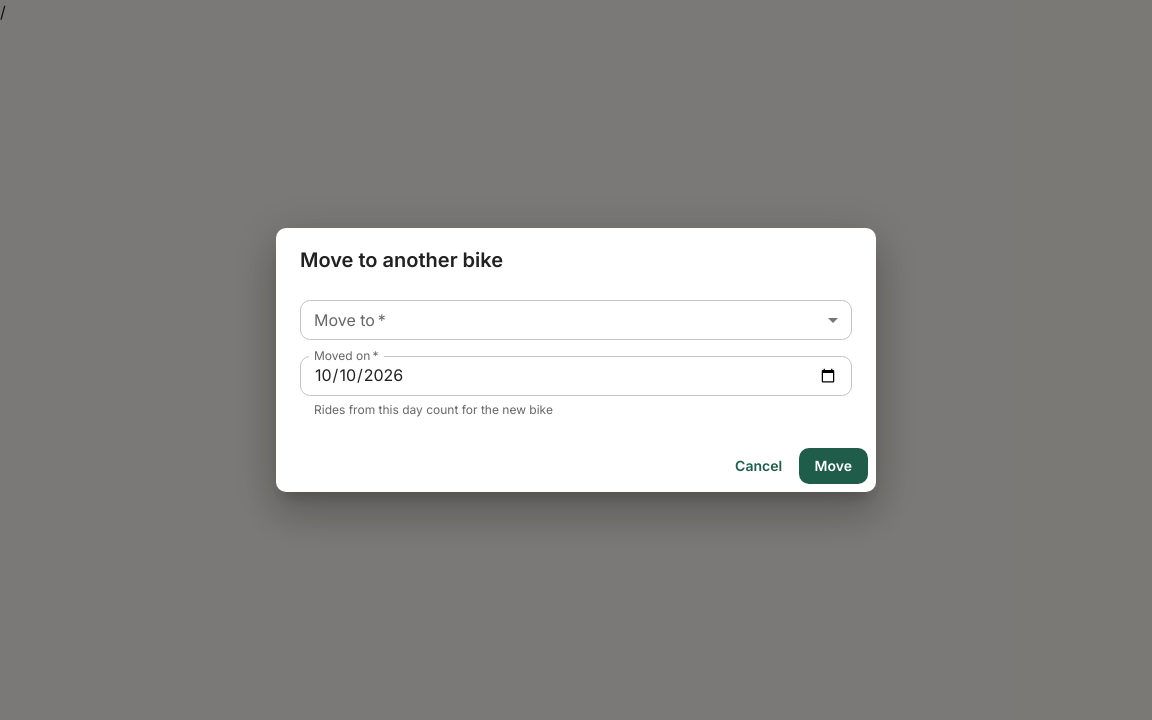
MoveComponentDialog › offers every bike except the one the part is on, and today as the date
Expected: the heading "Move to another bike" is shown, [300, 248, 503, 272]
Step 1. Click the dropdown named "Move to" → [576, 320], box [300, 300, 852, 340]
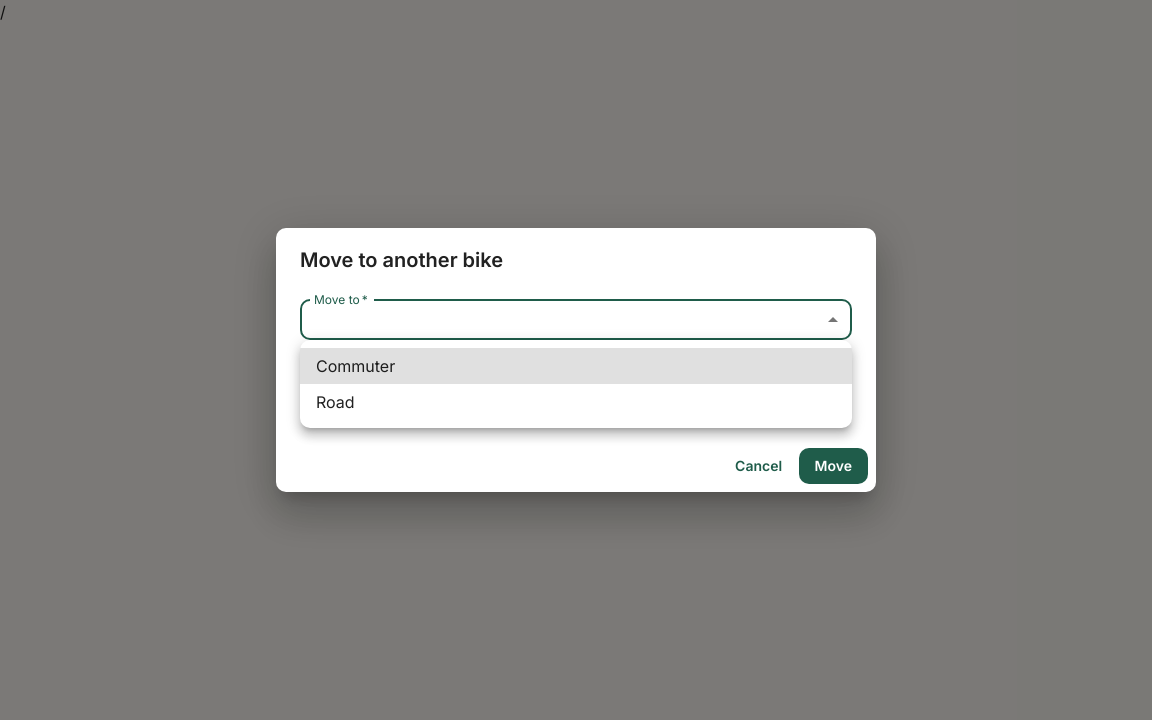
Expected: the text "Rides from this day count for the new bike" is shown, [314, 402, 553, 417]
Expected: the options read "Commuter", "Road", in this order, [300, 348, 852, 384]; [316, 392, 355, 412]
